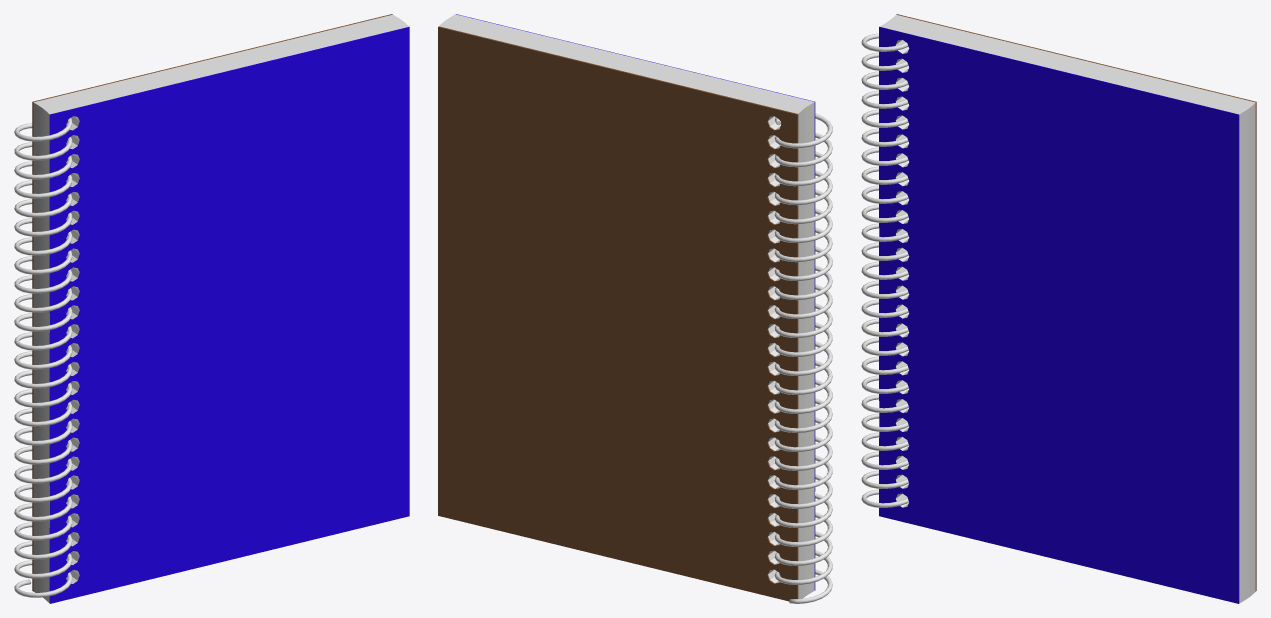
File: spiral_notebook.glb
3 views of the same model, side by side, from view 1: azimuth 30°, elevation 25°; view 2: azimuth 150°, elevation 25°; view 3: azimuth 330°, elevation 25° (orthographic).
Parts seen in each view (by area): view 1: Spiral_Notebook; view 2: Spiral_Notebook; view 3: Spiral_Notebook.
Part boxes in pixels (bbox=[...]): Spiral_Notebook: bbox=[14, 14, 409, 603]; Spiral_Notebook: bbox=[438, 14, 832, 603]; Spiral_Notebook: bbox=[861, 14, 1256, 603].
Bounding box in the file's own units: 0.2372 × 0.289 × 0.0312.
